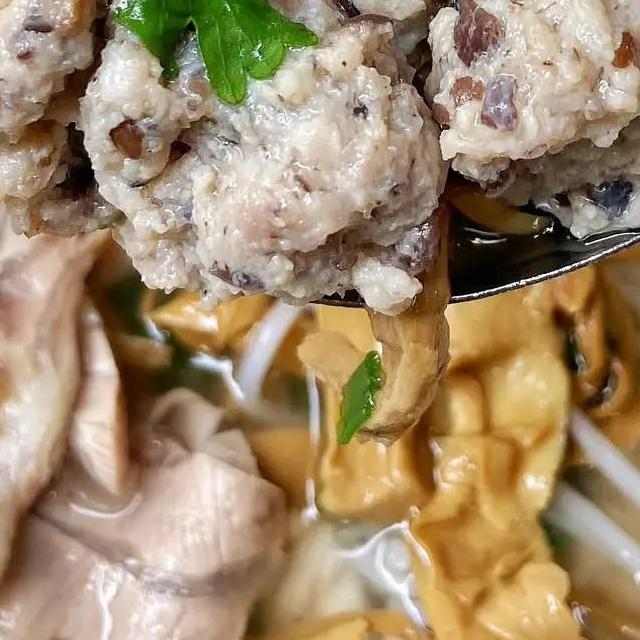bun moc: (0, 0, 640, 640)
thit heo: (0, 362, 296, 640), (0, 69, 121, 640)
vien moc: (0, 0, 459, 328), (407, 0, 640, 253)
